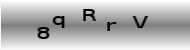8: (36, 26, 51, 40)
R: (82, 8, 97, 22)
V: (130, 14, 149, 29)
q: (51, 15, 65, 29)
r: (105, 21, 117, 32)
